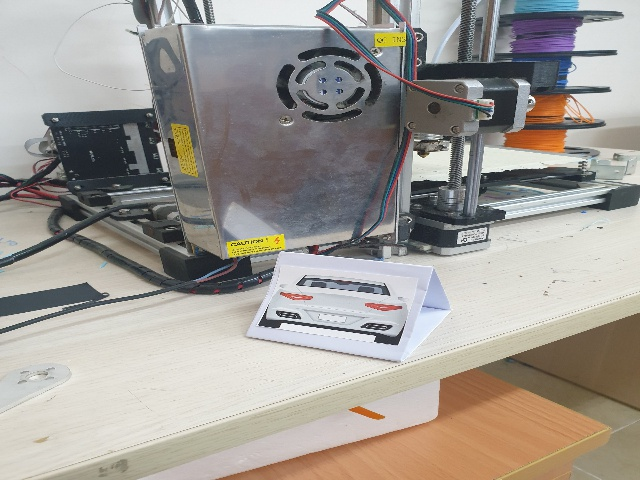Car: (264, 271, 404, 346)
